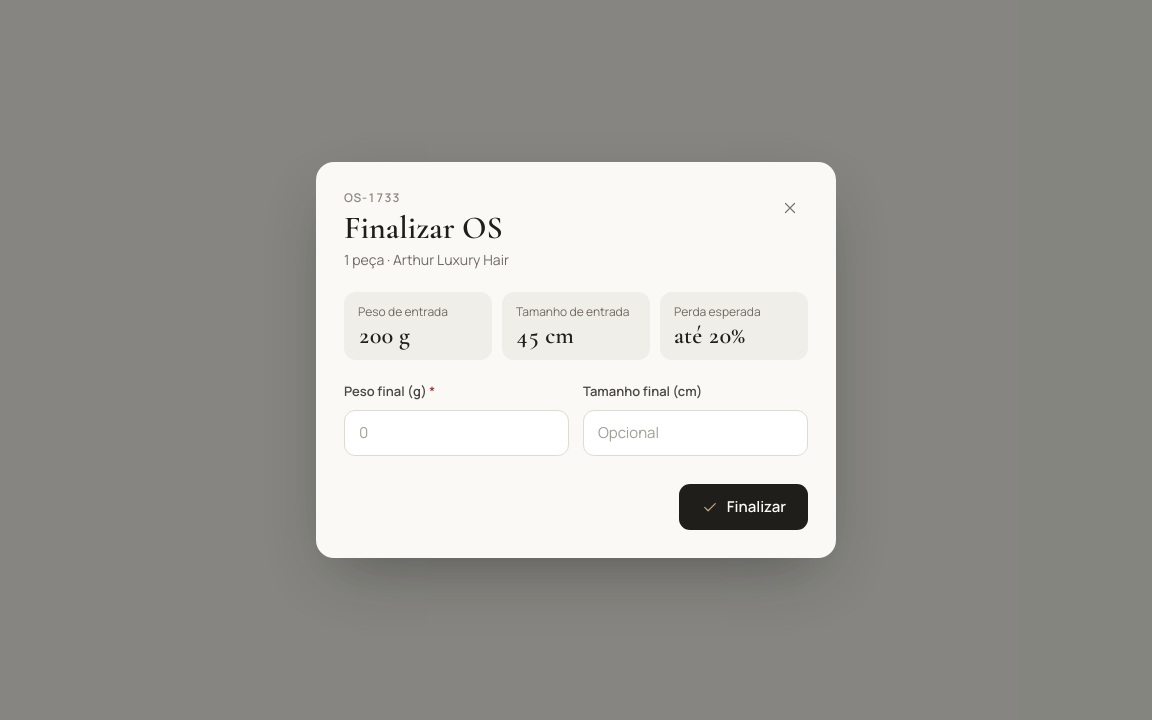
Test case: FinalizarOSModal › recusa peso final maior que o de entrada
Type "250" into the number field labelled "Peso final (g) *".
click(456, 433); type("250")  # box [344,410,569,456]
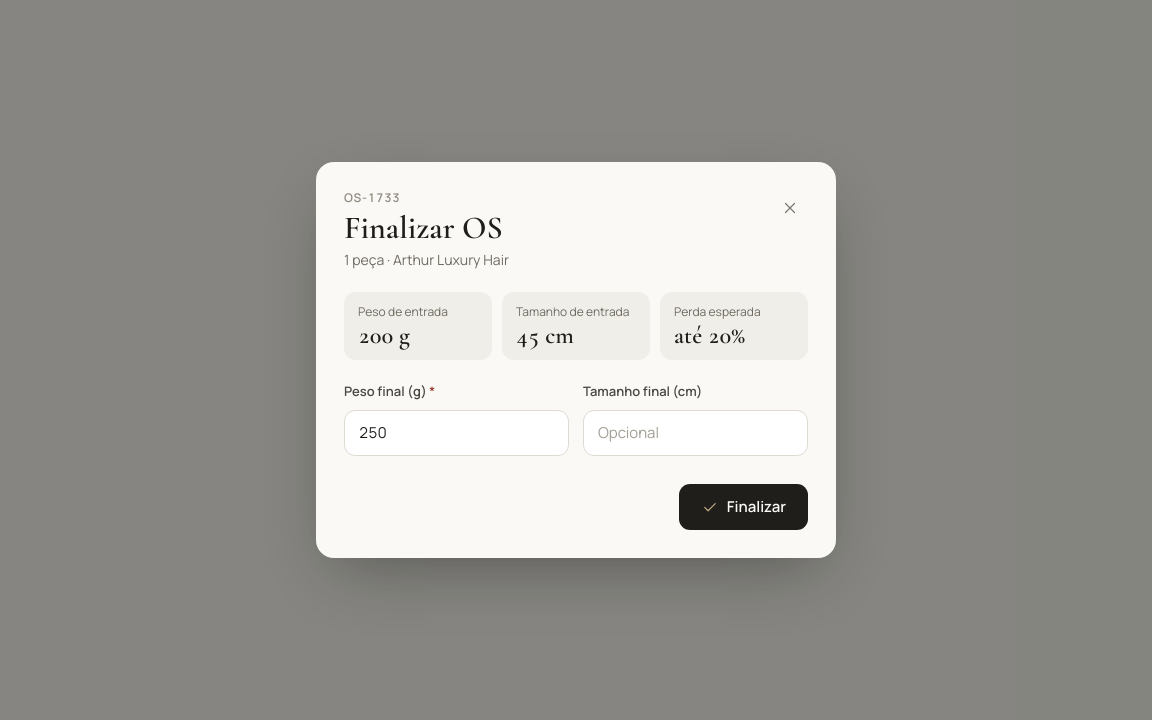
Click the button "Finalizar".
click(743, 507)  # box [679,484,808,530]
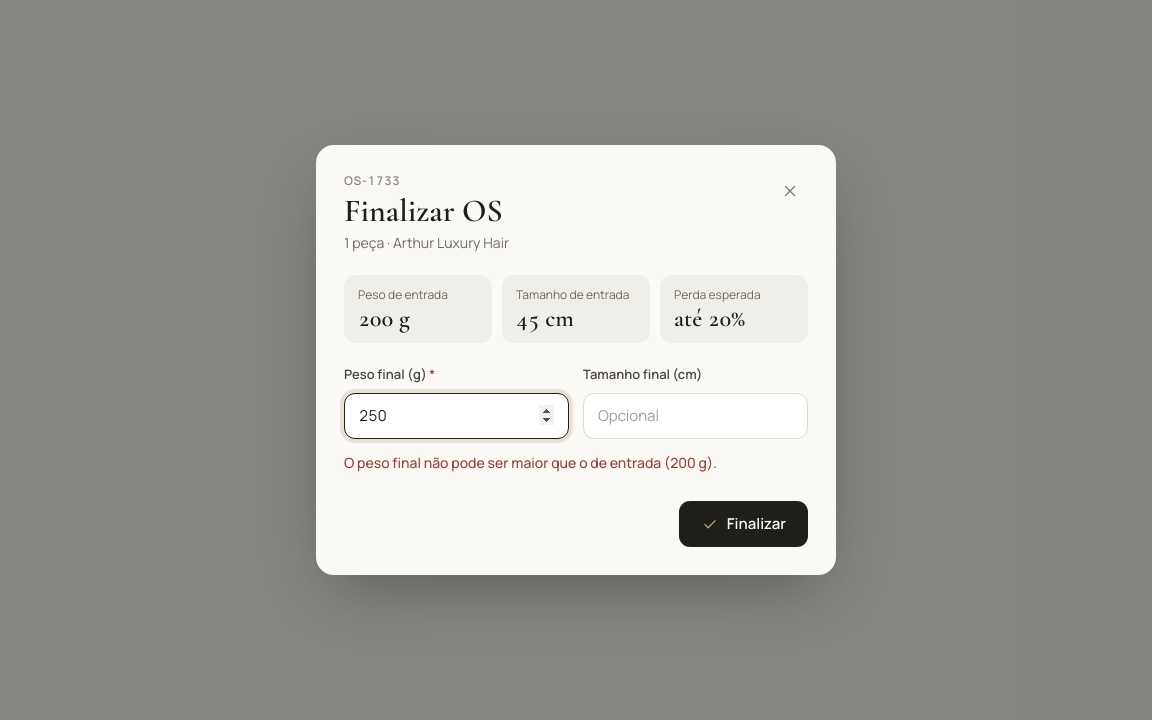
Expected: the text "O peso final não pode ser maior que o de entrada (200 g)." is shown, [344,453,717,472]
